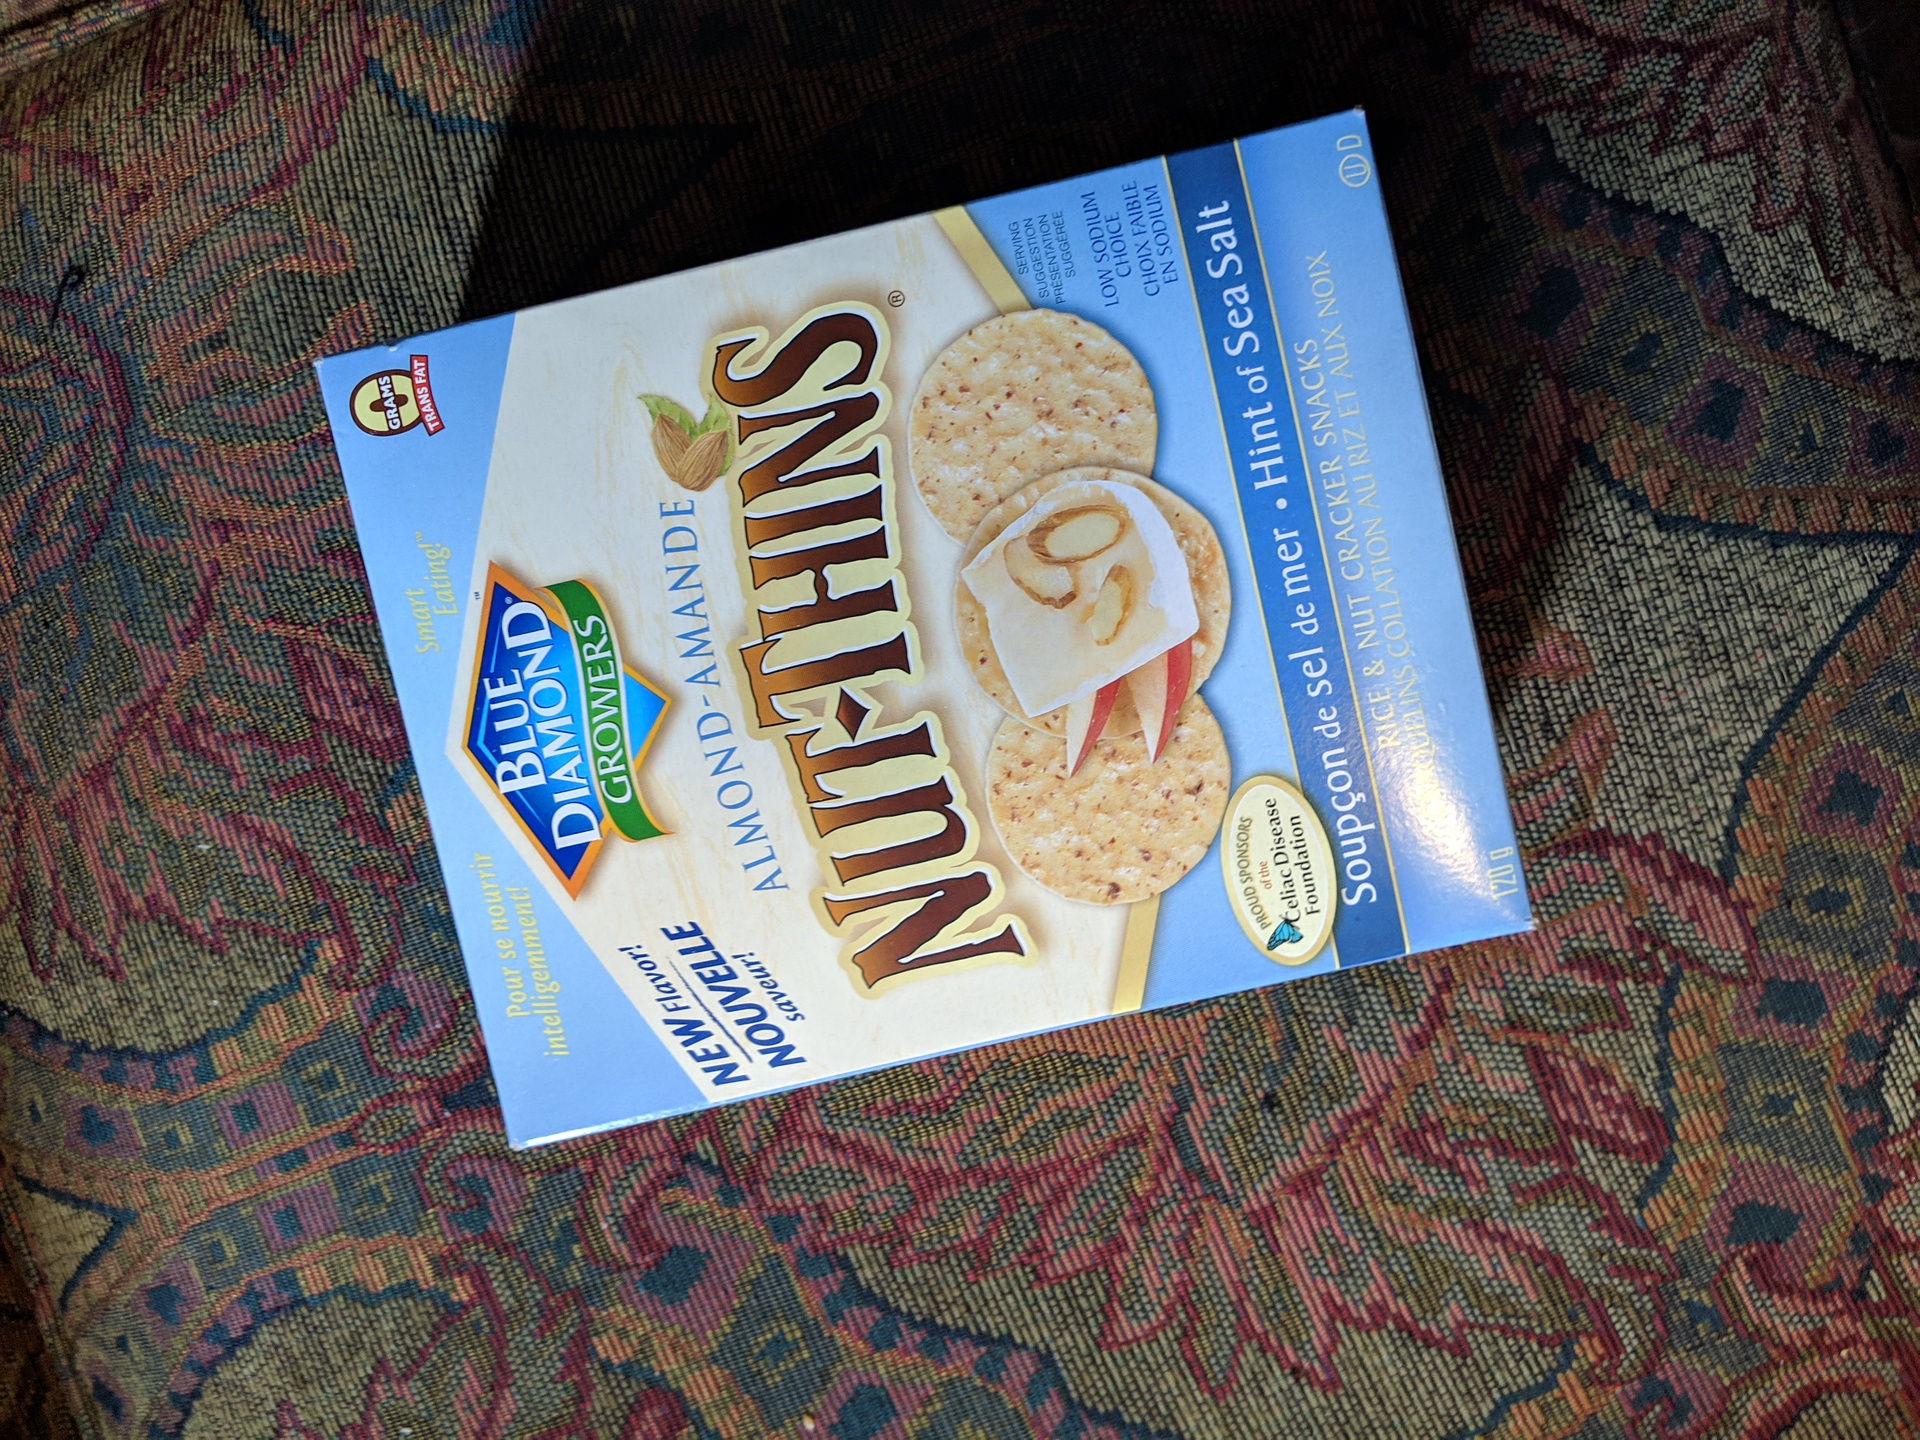blue_diamond_nut_thins_almond_seasalt: (473, 322, 1358, 959)
